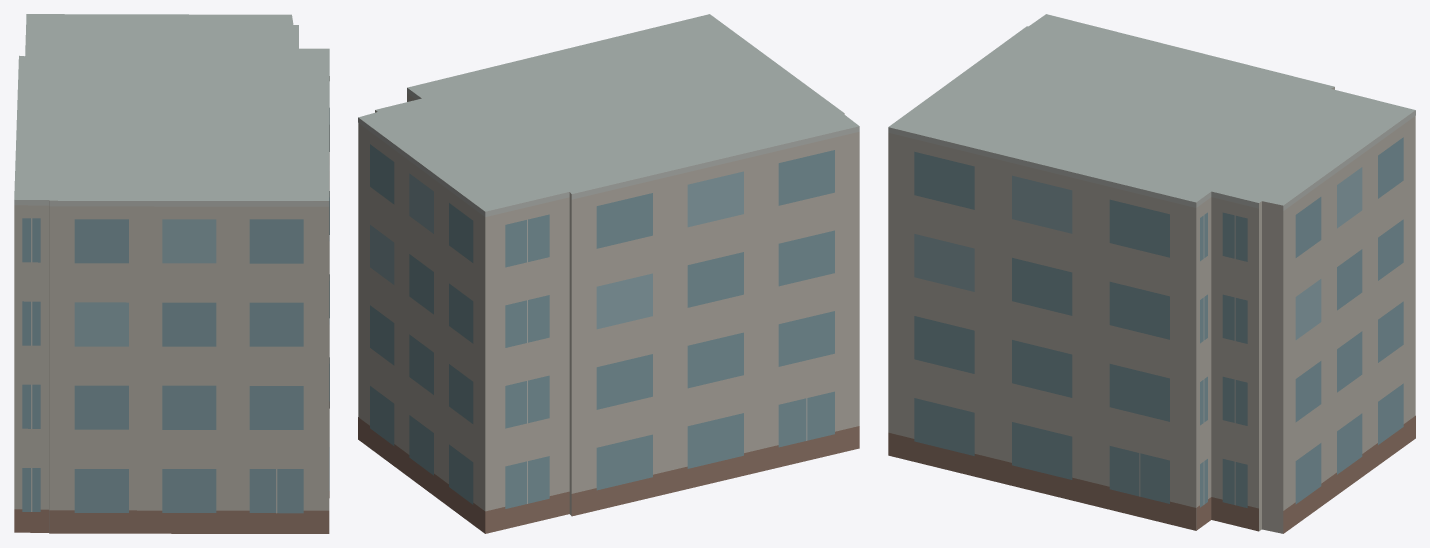
Rendered from survey-upis-32942254.glb.
3 renders of one model, left to right at view 1: azimuth 30°, elevation 25°; view 2: azimuth 150°, elevation 25°; view 3: azimuth 270°, elevation 25°, orthographic. The views are drawn at different scales.
Visible parts, largest first — view 1: survey-upis-32942254.tmp; view 2: survey-upis-32942254.tmp; view 3: survey-upis-32942254.tmp.
Part boxes in pixels (x1,y1,x2,y2): survey-upis-32942254.tmp: (14,14,329,533); survey-upis-32942254.tmp: (358,14,859,533); survey-upis-32942254.tmp: (888,14,1415,533).
Size of the model in its own units: 18.18 by 14.52 by 21.15.
